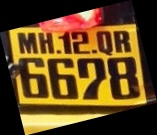character: (105, 55, 140, 99), (47, 57, 78, 98), (76, 58, 106, 99), (19, 57, 48, 97), (17, 32, 39, 53), (70, 31, 90, 54), (96, 30, 113, 56), (113, 30, 132, 52), (37, 32, 55, 54), (56, 31, 72, 54)
